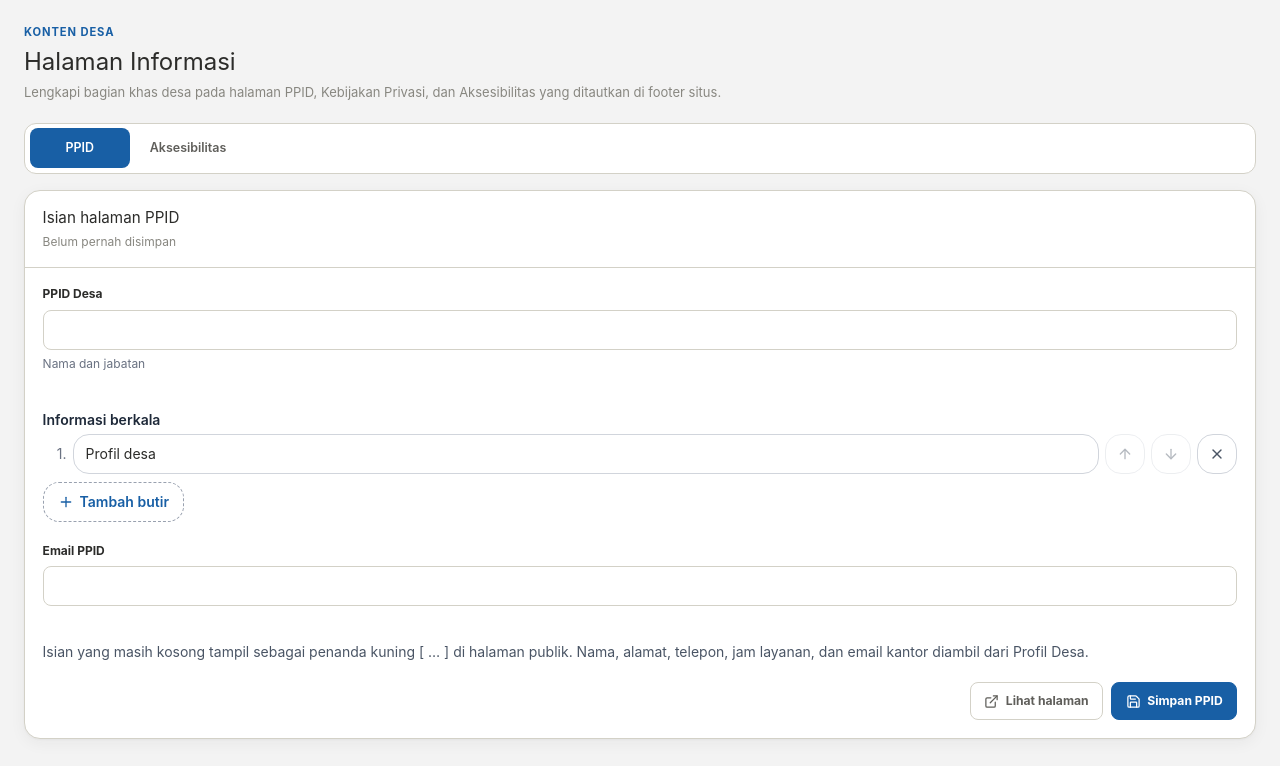
Test case: KelolaHalamanInfoPage › shows the validation message from the server
The image size is (1280, 766).
Click the button "Simpan PPID".
click(1174, 701)  # box [1111,682,1237,720]
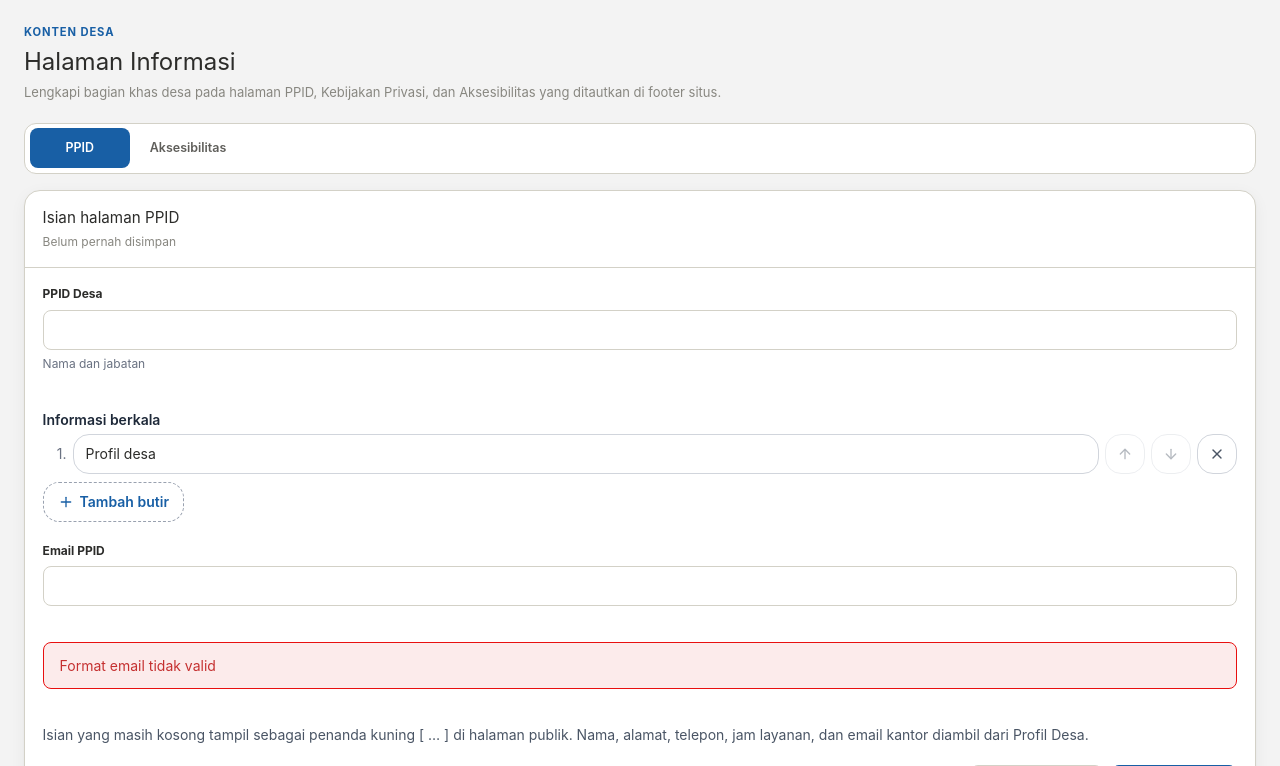
Result: the message reads "Format email tidak valid" at [60,657,216,674]
